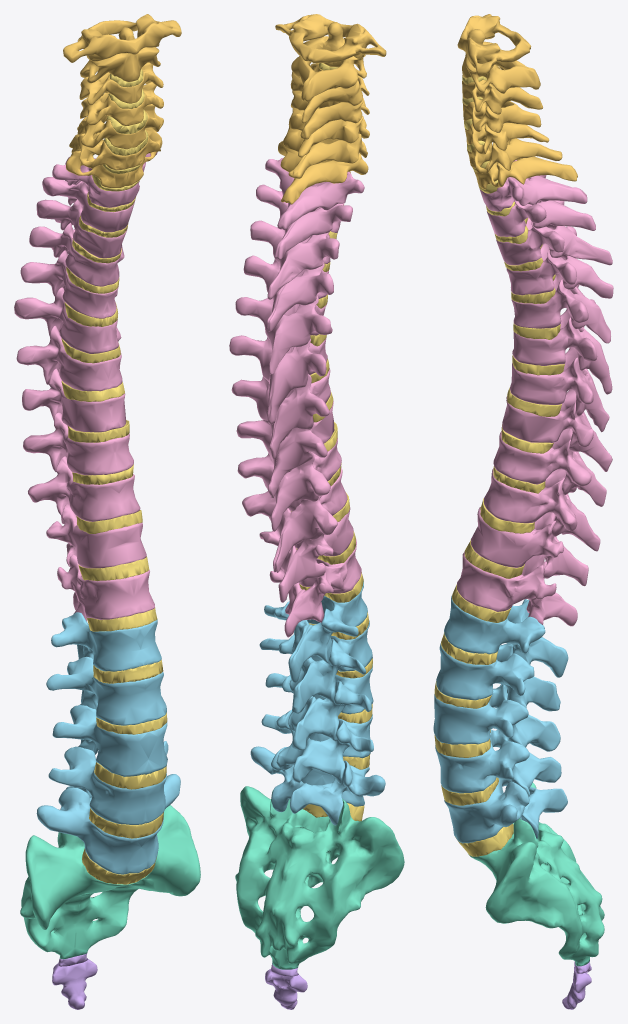
Rendered from spine.glb.
3 renders of one model, left to right at view 1: azimuth 30°, elevation 25°; view 2: azimuth 150°, elevation 25°; view 3: azimuth 270°, elevation 25°, orthographic. The views are drawn at different scales.
Parts seen in each view (by area): view 1: Sacrum.001, Lumbar vertebrae.003, Lumbar vertebrae.001, Lumbar vertebrae.004, Lumbar vertebrae.002, Lumbar vertebrae, Thoracic vertebrae.007, Thoracic vertebrae.009, Thoracic vertebrae.006, Thoracic vertebrae.008, Thoracic vertebrae.005, Cervical vertebrae.001 (+28 smaller); view 2: Sacrum.001, Lumbar vertebrae.003, Lumbar vertebrae.002, Thoracic vertebrae.007, Lumbar vertebrae.004, Lumbar vertebrae.001, Lumbar vertebrae, Thoracic vertebrae.004, Thoracic vertebrae.005, Thoracic vertebrae.006, Thoracic vertebrae.003, Thoracic vertebrae.010 (+16 smaller); view 3: Sacrum.001, Lumbar vertebrae.004, Lumbar vertebrae.001, Lumbar vertebrae, Thoracic vertebrae.009, Lumbar vertebrae.002, Lumbar vertebrae.003, Thoracic vertebrae.007, Thoracic vertebrae.008, Thoracic vertebrae.006, Thoracic vertebrae.010, Thoracic vertebrae.005 (+27 smaller).
Part boxes in pixels (x1,y1,x2,y2): Sacrum.001: (20, 805, 200, 959); Lumbar vertebrae.003: (36, 774, 180, 874); Lumbar vertebrae.001: (46, 656, 166, 725); Lumbar vertebrae.004: (52, 705, 167, 776); Lumbar vertebrae.002: (48, 741, 168, 824); Lumbar vertebrae: (51, 612, 161, 671); Thoracic vertebrae.007: (28, 456, 140, 523); Thoracic vertebrae.009: (57, 554, 154, 621); Thoracic vertebrae.006: (23, 412, 133, 475); Thoracic vertebrae.008: (46, 504, 146, 568); Thoracic vertebrae.005: (16, 325, 122, 391); Cervical vertebrae.001: (63, 14, 181, 62); Sacrum.001: (235, 786, 404, 969); Lumbar vertebrae.003: (250, 746, 385, 825); Lumbar vertebrae.002: (261, 710, 373, 783); Thoracic vertebrae.007: (242, 467, 347, 572); Lumbar vertebrae.004: (265, 664, 373, 750); Lumbar vertebrae.001: (259, 620, 372, 713); Lumbar vertebrae: (264, 581, 367, 682); Thoracic vertebrae.004: (229, 335, 327, 424); Thoracic vertebrae.005: (231, 368, 330, 458); Thoracic vertebrae.006: (237, 438, 341, 531); Thoracic vertebrae.003: (235, 295, 332, 374); Thoracic vertebrae.010: (236, 401, 334, 499); Sacrum.001: (468, 782, 604, 966); Lumbar vertebrae.004: (433, 684, 560, 751); Lumbar vertebrae.001: (436, 643, 560, 711); Lumbar vertebrae: (444, 596, 568, 677); Thoracic vertebrae.009: (457, 552, 577, 626); Lumbar vertebrae.002: (435, 729, 561, 796); Lumbar vertebrae.003: (444, 778, 567, 843); Thoracic vertebrae.007: (484, 468, 600, 551); Thoracic vertebrae.008: (471, 507, 588, 586); Thoracic vertebrae.006: (493, 428, 606, 506); Thoracic vertebrae.010: (502, 389, 612, 471); Thoracic vertebrae.005: (510, 347, 609, 432).
Bounding box in the file's own units: 0.4424 × 2.6 × 0.4327.
